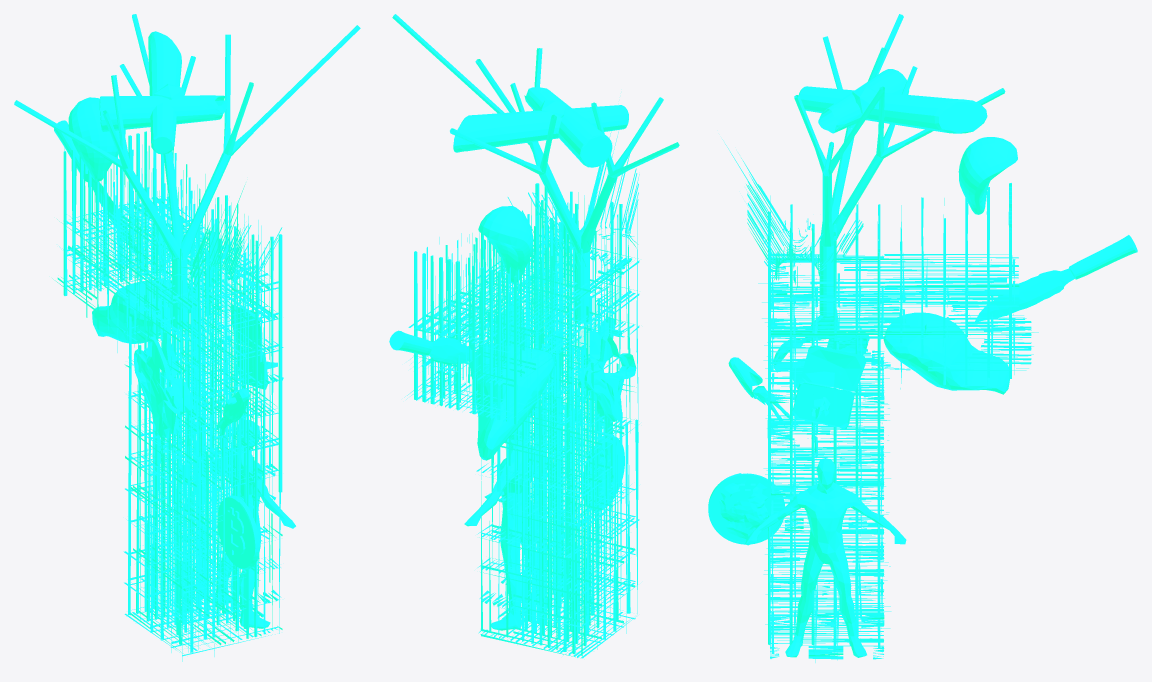
The model's file is DIP213JS.glb.
The picture shows the model from 3 angles, left to right: view 1: azimuth 30°, elevation 25°; view 2: azimuth 150°, elevation 25°; view 3: azimuth 270°, elevation 25°; orthographic projection. The views are drawn at different scales.
Parts seen in each view (by area): view 1: Object_965.003; view 2: Object_965.003; view 3: Object_965.003.
Part boxes in pixels (box(x1,y1,x2,y2)): Object_965.003: box(14, 14, 360, 661); Object_965.003: box(389, 14, 679, 658); Object_965.003: box(708, 14, 1137, 662).
Bounding box in the file's own units: 9.19 × 16.26 × 10.74.
